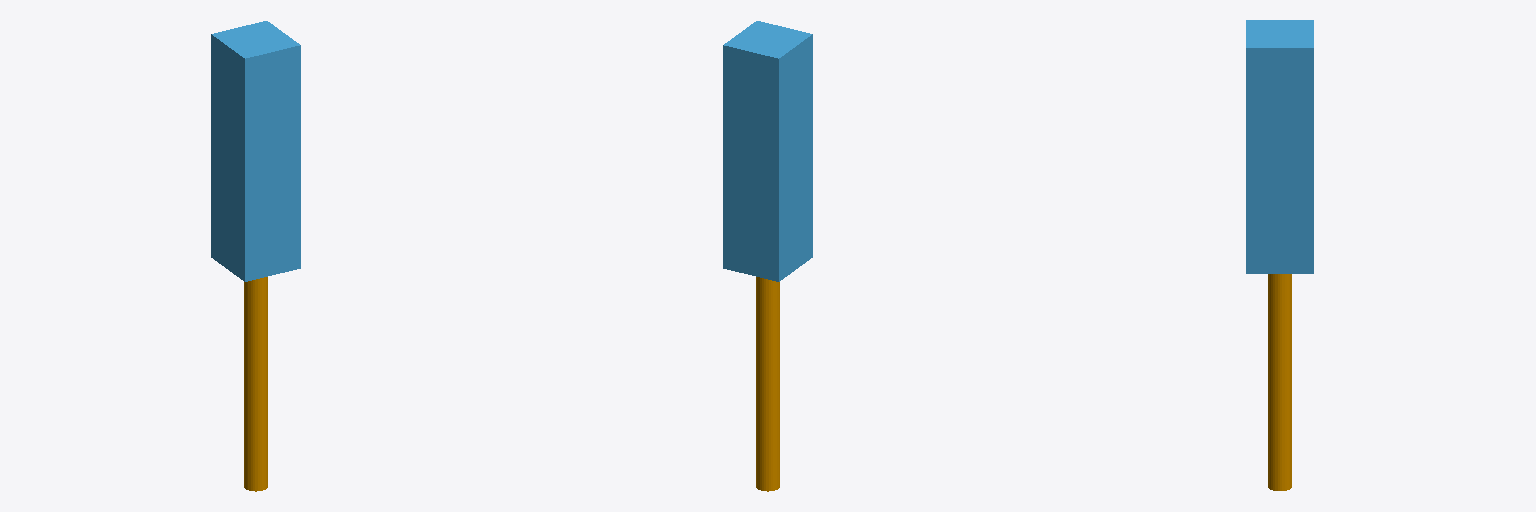
robot.urdf — screwdriver_on_the_table:
<?xml version="1.0" ?>
<!-- this is the one without any virtual joints and links -->
<robot name="screwdriver_on_the_table">
<link name="screwdriver_stick">
    <inertial>
      <mass value="0.05"/>
      <!-- <friction value="1.0"/> -->
      <inertia ixx="0.000041979" ixy="0.0" ixz="0.0" iyy="0.000041979" iyz="0.0" izz="0.000000625"/>
    </inertial>
    <visual>
        <origin rpy="0 0 0" xyz="0 0 0.05"/>
        <geometry>
            <cylinder radius="0.005" length="0.1"/>
        </geometry>
        <!-- <material name="White">
	 	    <color rgba="0.9 0.9 0.9 0.5"/>
        </material> -->
    </visual>
    <collision>
        <origin rpy="0 0 0" xyz="0 0 0.05"/>
        <geometry>
            <cylinder radius="0.005" length="0.1"/>
        </geometry>
    </collision>
</link>

<gazebo reference="screwdriver_body">
    <mu1>0.589046</mu1>
    <mu2>0.980828</mu2>
    <!-- Isaac Sim maps mu1/mu2 to PhysX static/dynamic friction during URDF→USD import -->
</gazebo>

<joint name="screwdriver_stick_body_joint" type="fixed">
    <parent link="screwdriver_stick"/>
    <child link="screwdriver_body"/>
    <origin rpy="0 0 0" xyz="0 0 0.1"/> 
    <axis xyz="0 0 1"/>
</joint>

<link name="screwdriver_body">
    <inertial>
      <mass value="0.085918"/>
      <inertia ixx="0.000076972" ixy="0.0" ixz="0.0" iyy="0.000076506" iyz="0.0" izz="0.000010281"/>
    </inertial>
    <visual>
        <origin rpy="0 0 0" xyz="0 0 0.05"/>
        <geometry>
            <box size="0.026181 0.027396 0.100000"/>
        </geometry>
        <!-- <material name="Red1">
	 	    <color rgba="0.9 0. 0. 0.5"/>
        </material> -->
    </visual>
    <collision>
        <origin rpy="0 0 0" xyz="0 0 0.05"/>
        <geometry>
            <box size="0.026181 0.027396 0.100000"/>
        </geometry>
    </collision>
</link>

<!-- <joint name="screwdriver_body_cap_joint" type="revolute">
    <parent link="screwdriver_body"/>
    <child link="screwdriver_cap"/>
    <origin rpy="0 0 0" xyz="0 0 0.1"/> 
    <axis xyz="0 0 1"/>
</joint>

<link name="screwdriver_cap">
    <inertial>
      <mass value="0.005"/>
      <inertia ixx="0.00001" ixy="0.0" ixz="0.0" iyy="0.000005" iyz="0.0" izz="0.000005"/>
    </inertial>
    <visual>
        <origin rpy="0 0 0" xyz="0 0 0.0006"/>
        <geometry>
            <cylinder radius="0.02" length="0.001"/>
        </geometry>
        <material name="Yellow">
	 	    <color rgba="0.9 0.9 0. 1.0"/>
        </material>
    </visual>
    <collision>
        <origin rpy="0 0 0" xyz="0 0 0.0005"/>
        <geometry>
            <cylinder radius="0.02" length="0.001"/>
        </geometry>
    </collision>
</link> -->

</robot>

--- Facts derived from the render (not from the file) ---
Views: 3 orthographic renders of the robot side by side, from view 1: azimuth 30°, elevation 25°; view 2: azimuth 150°, elevation 25°; view 3: azimuth 270°, elevation 25°.
Robot: screwdriver_on_the_table — 2 links, 1 joints (1 fixed); root link screwdriver_stick; default pose: every joint at zero.
Visible links, largest first — view 1: screwdriver_body, screwdriver_stick; view 2: screwdriver_body, screwdriver_stick; view 3: screwdriver_body, screwdriver_stick.
Boxes of the visible links, x1,y1,x2,y2 form: screwdriver_body: (211, 21, 300, 281); screwdriver_stick: (244, 277, 267, 491); screwdriver_body: (723, 21, 812, 281); screwdriver_stick: (756, 277, 779, 491); screwdriver_body: (1246, 20, 1313, 273); screwdriver_stick: (1268, 274, 1291, 490).
Size in the robot's own frame: 0.0262 by 0.0274 by 0.2 metres.
Geometry: primitives only (box / cylinder / sphere), no mesh files.
